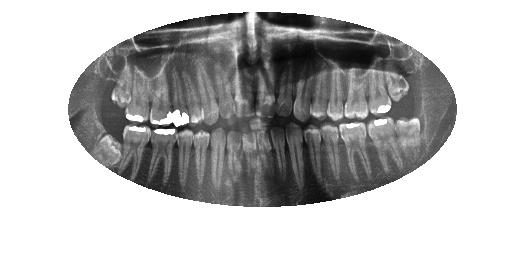i10healthy: (222, 125, 248, 197)
i11healthy: (203, 122, 228, 196)
i12healthy: (187, 122, 215, 199)
i13healthy: (169, 125, 198, 200)
i14healthy: (147, 118, 181, 191)
i15healthy: (115, 113, 152, 185)
i16healthy: (83, 130, 126, 176)
i1healthy: (391, 110, 427, 169)
i2healthy: (363, 112, 407, 179)
i3healthy: (336, 117, 378, 184)
i4healthy: (316, 118, 342, 192)
i5healthy: (300, 115, 329, 193)
i6decay: (279, 116, 306, 201)
i7decay: (269, 113, 289, 197)
i8healthy: (256, 118, 275, 187)
i9healthy: (239, 120, 263, 194)
u10healthy: (209, 46, 239, 125)
u11healthy: (192, 52, 224, 128)
u12healthy: (175, 62, 210, 131)
u13healthy: (164, 64, 195, 132)
u14healthy: (143, 57, 187, 132)
u15healthy: (123, 61, 155, 131)
u16healthy: (105, 58, 136, 112)
u1healthy: (378, 49, 414, 111)
u2healthy: (361, 51, 393, 119)
u3healthy: (342, 56, 372, 124)
u4healthy: (322, 51, 349, 125)
u5healthy: (305, 48, 332, 126)
u6healthy: (292, 49, 317, 128)
u7healthy: (269, 43, 300, 124)
u8healthy: (252, 44, 280, 122)
u9healthy: (226, 46, 261, 123)
